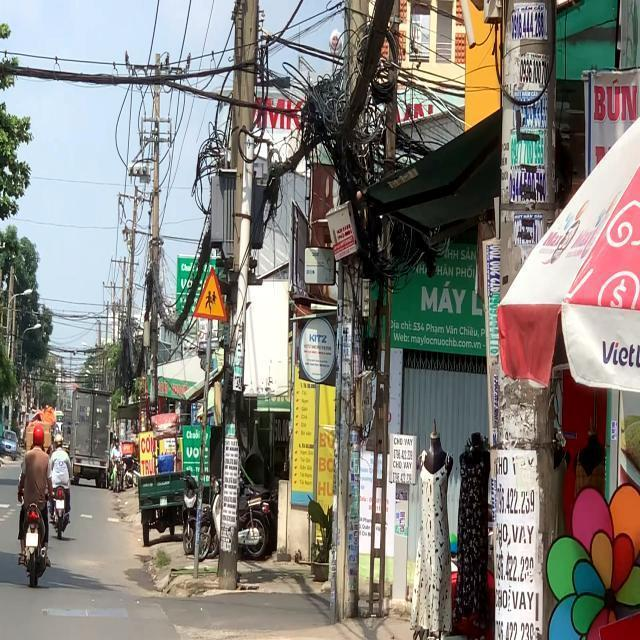225-chu-y-tre-em: (192, 267, 228, 322)
